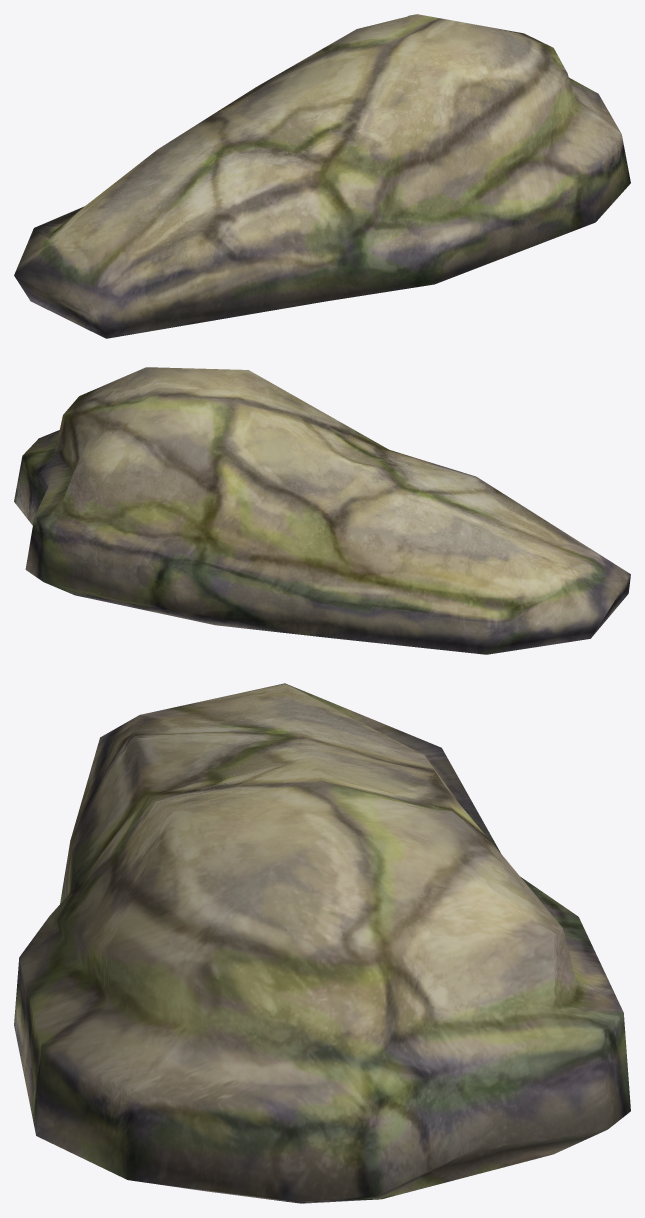
File: rock flat.FBX
The picture shows the model from 3 angles, top to bottom: view 1: azimuth 30°, elevation 25°; view 2: azimuth 150°, elevation 25°; view 3: azimuth 270°, elevation 25°; orthographic projection. The views are drawn at different scales.
Parts seen in each view (by area): view 1: rock flat; view 2: rock flat; view 3: rock flat.
Part boxes in pixels (x1,y1,x2,y2): rock flat: (14, 14, 630, 338); rock flat: (14, 367, 630, 654); rock flat: (14, 683, 630, 1203).
Size of the model in its own units: 4.59 by 1.25 by 2.45.
Materials: 1 (1 with a texture image).
